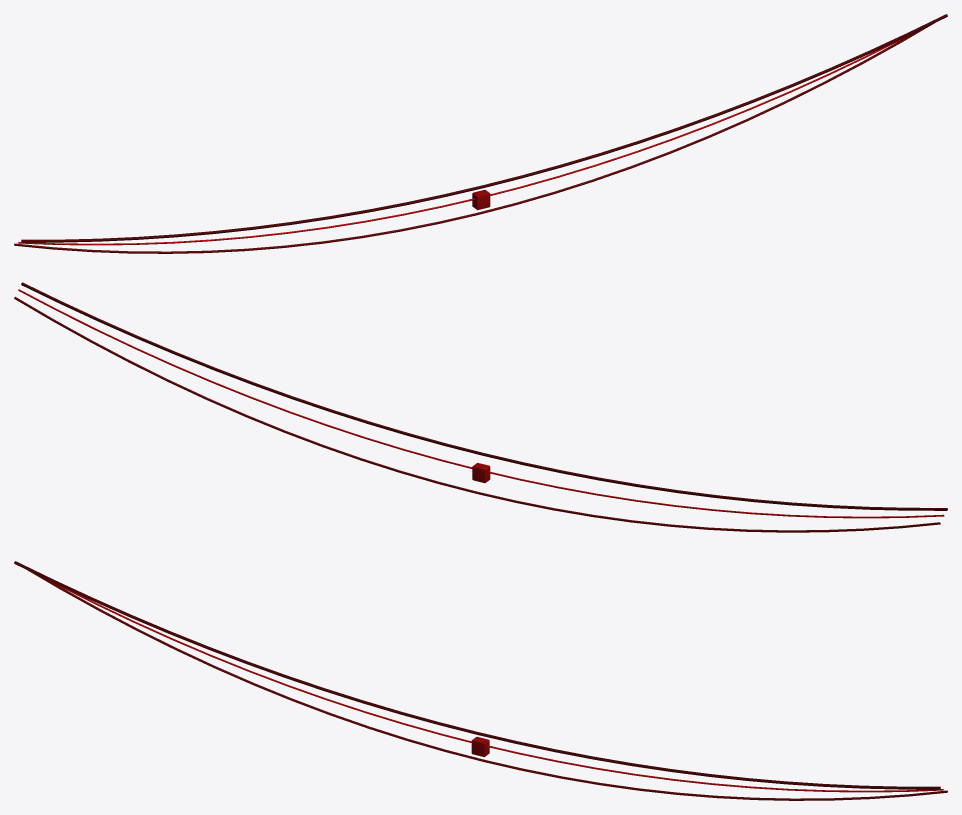
Rendered from cable_span.glb.
3 views of the same model, one above another, from view 1: azimuth 30°, elevation 25°; view 2: azimuth 150°, elevation 25°; view 3: azimuth 330°, elevation 25° (orthographic).
Parts seen in each view (by area): view 1: cable_span; view 2: cable_span; view 3: cable_span.
Part boxes in pixels (box(x1,y1,x2,y2)): cable_span: box(14, 14, 947, 253); cable_span: box(14, 282, 947, 532); cable_span: box(14, 561, 947, 800).
Size of the model in its own units: 20.01 by 1.93 by 0.3194.
